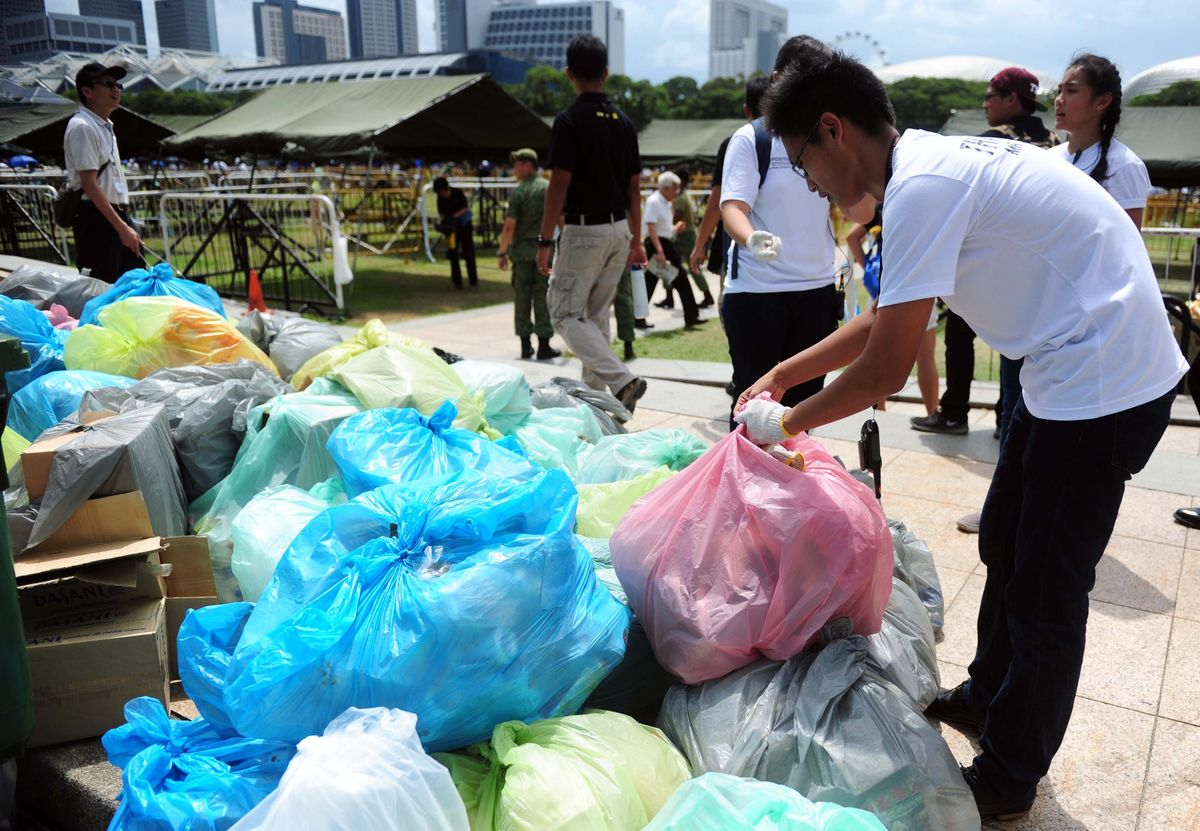plastic_bagwdw: (149, 431, 725, 722), (586, 368, 942, 686), (636, 592, 1072, 831), (237, 255, 569, 489), (396, 627, 691, 831), (789, 529, 988, 816), (532, 399, 739, 657), (203, 655, 503, 831), (583, 704, 887, 831), (32, 273, 320, 402), (44, 682, 291, 831), (3, 352, 213, 522), (818, 492, 1002, 663), (70, 222, 291, 337)
